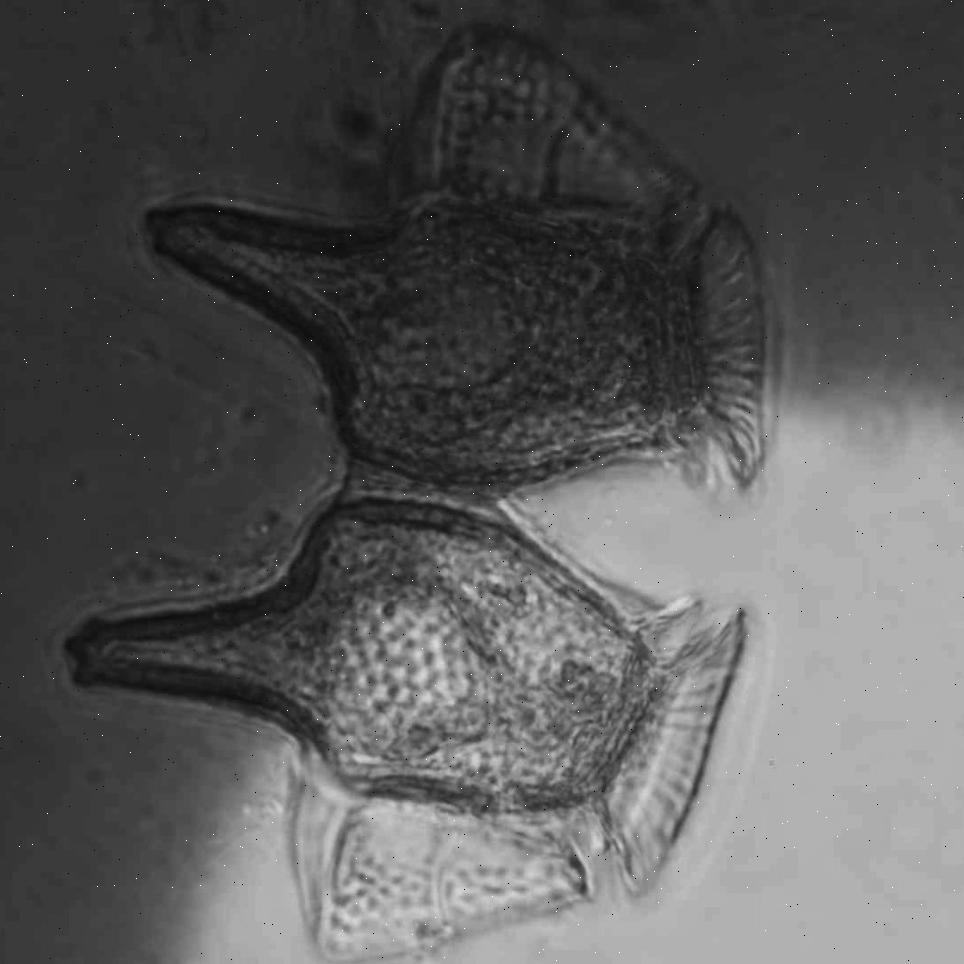dinophysis_caudata: (63, 497, 753, 964), (144, 23, 766, 500)
